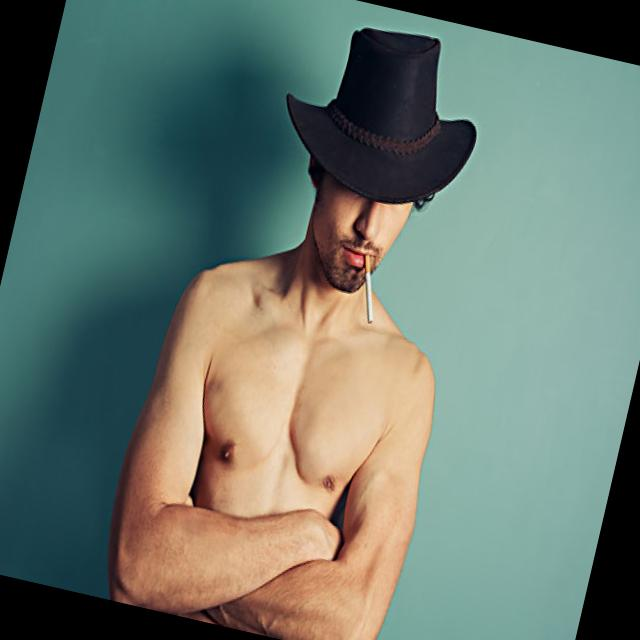cigarette: (346, 248, 389, 329)
